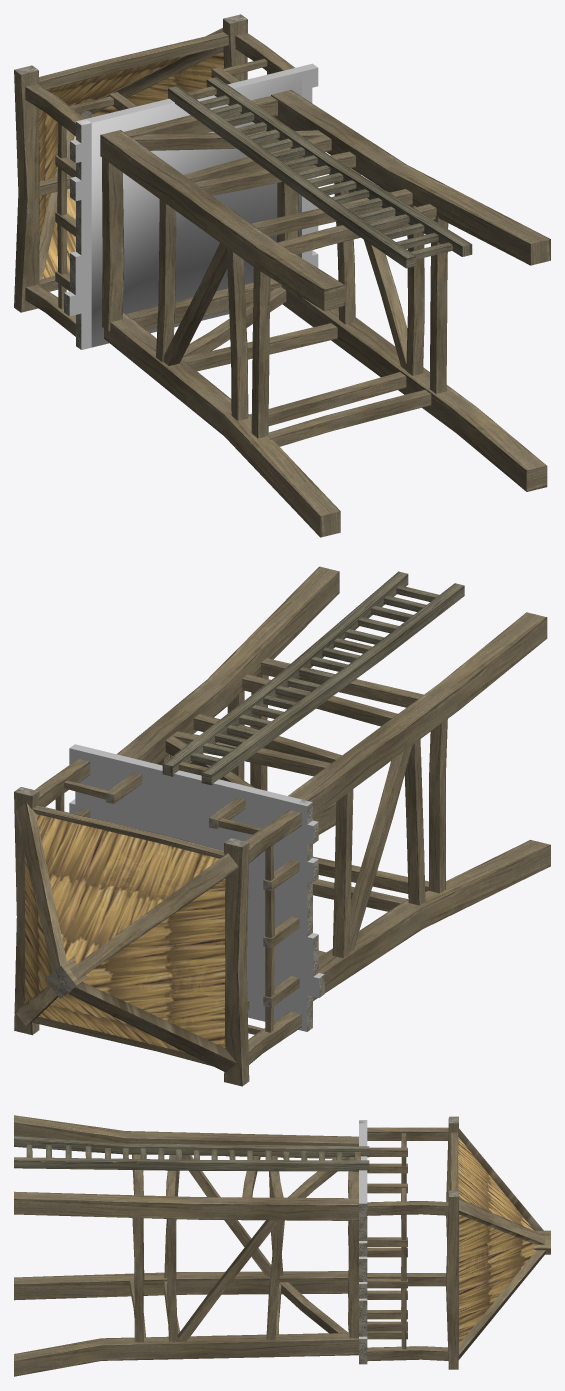
Rendered from Watch_Tower_C.fbx.
3 views of the same model, one above another, from view 1: azimuth 30°, elevation 25°; view 2: azimuth 150°, elevation 25°; view 3: azimuth 270°, elevation 25° (orthographic). The views are drawn at different scales.
Visible parts, largest first — view 1: Watch_Tower_C; view 2: Watch_Tower_C; view 3: Watch_Tower_C.
Boxes of the visible parts, <box> form: Watch_Tower_C: <box>14,14,550,537</box>; Watch_Tower_C: <box>14,566,550,1086</box>; Watch_Tower_C: <box>14,1115,550,1376</box>.
Size of the model in its own units: 6.7 by 6.62 by 16.89.
